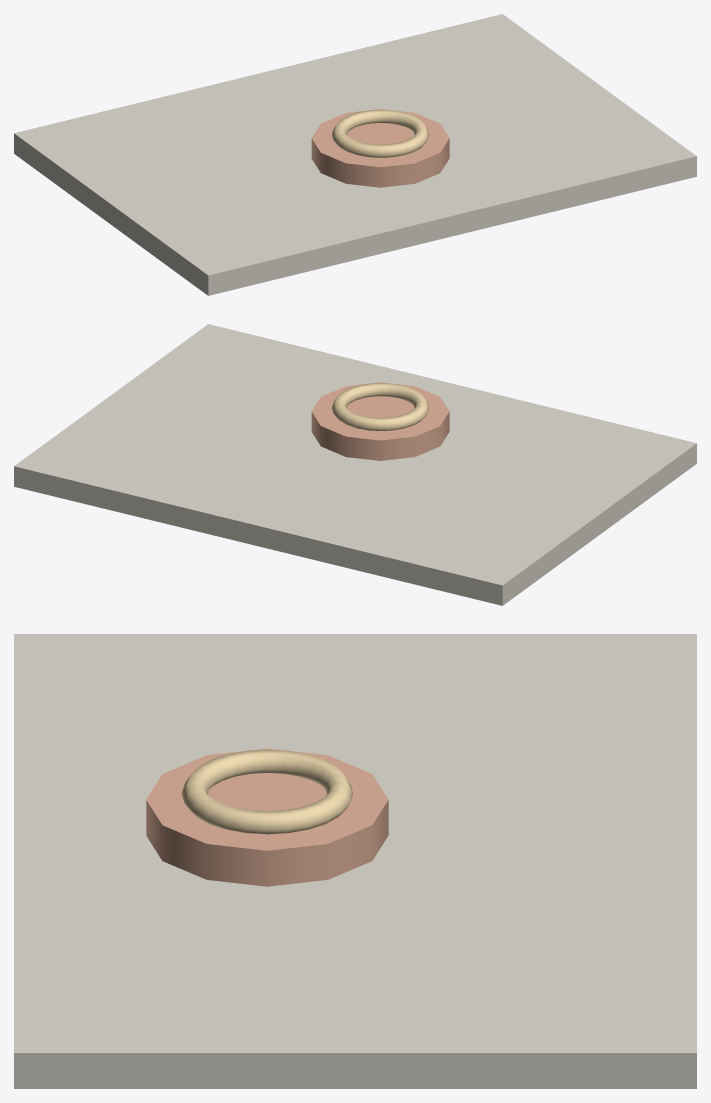
The model's file is prop-letter.glb.
3 renders of one model, top to bottom at view 1: azimuth 30°, elevation 25°; view 2: azimuth 150°, elevation 25°; view 3: azimuth 270°, elevation 25°, orthographic. The views are drawn at different scales.
Parts seen in each view (by area): view 1: letter; view 2: letter; view 3: letter.
Part boxes in pixels (<box>): letter: <box>14,14,696,295</box>; letter: <box>14,324,696,605</box>; letter: <box>14,634,696,1088</box>.
Bounding box in the file's own units: 0.45 × 0.0482 × 0.31.
